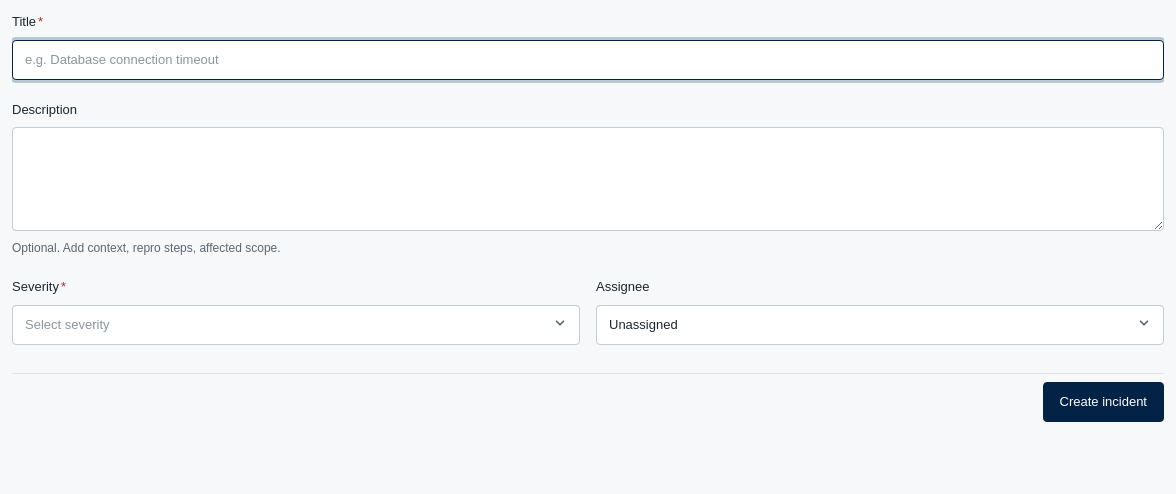
Test: IncidentForm › blocks submission and shows errors when title and severity are missing
Click the button "Create incident".
click(1103, 402)  # box [1042,382,1164,422]
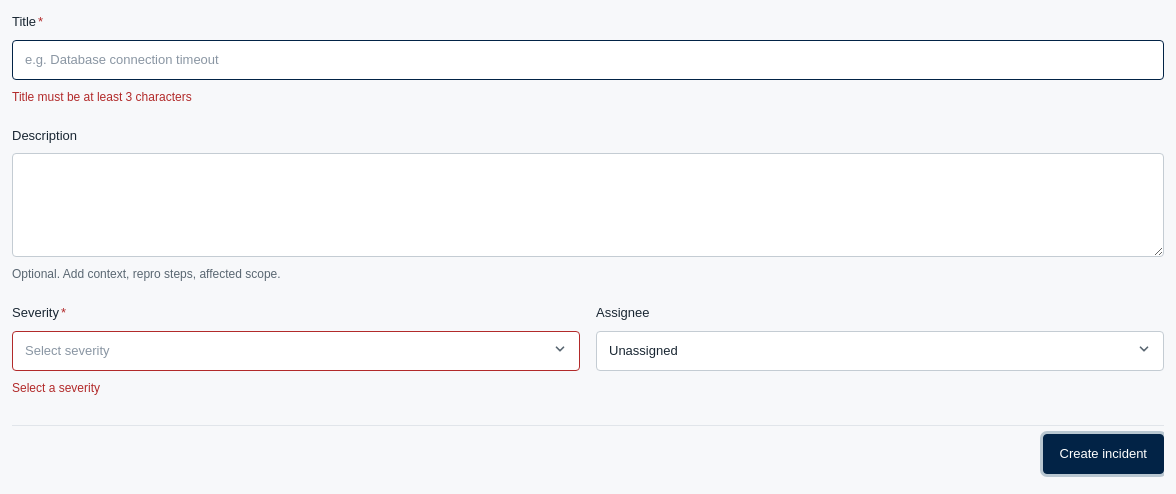
Check: the text "Title must be at least 3 characters" is shown, box [12,90,192,104]
Check: the text "Select a severity" is shown, box [12,380,100,394]
